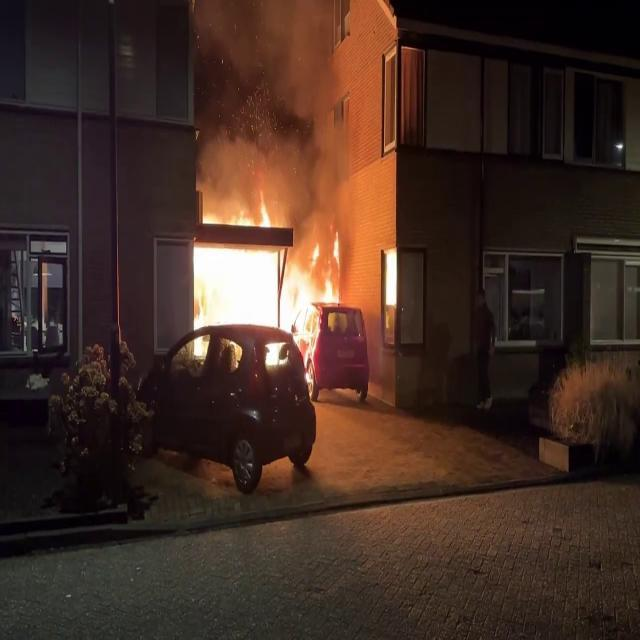Fire: (198, 226, 322, 362)
Smoke: (191, 1, 352, 216)
